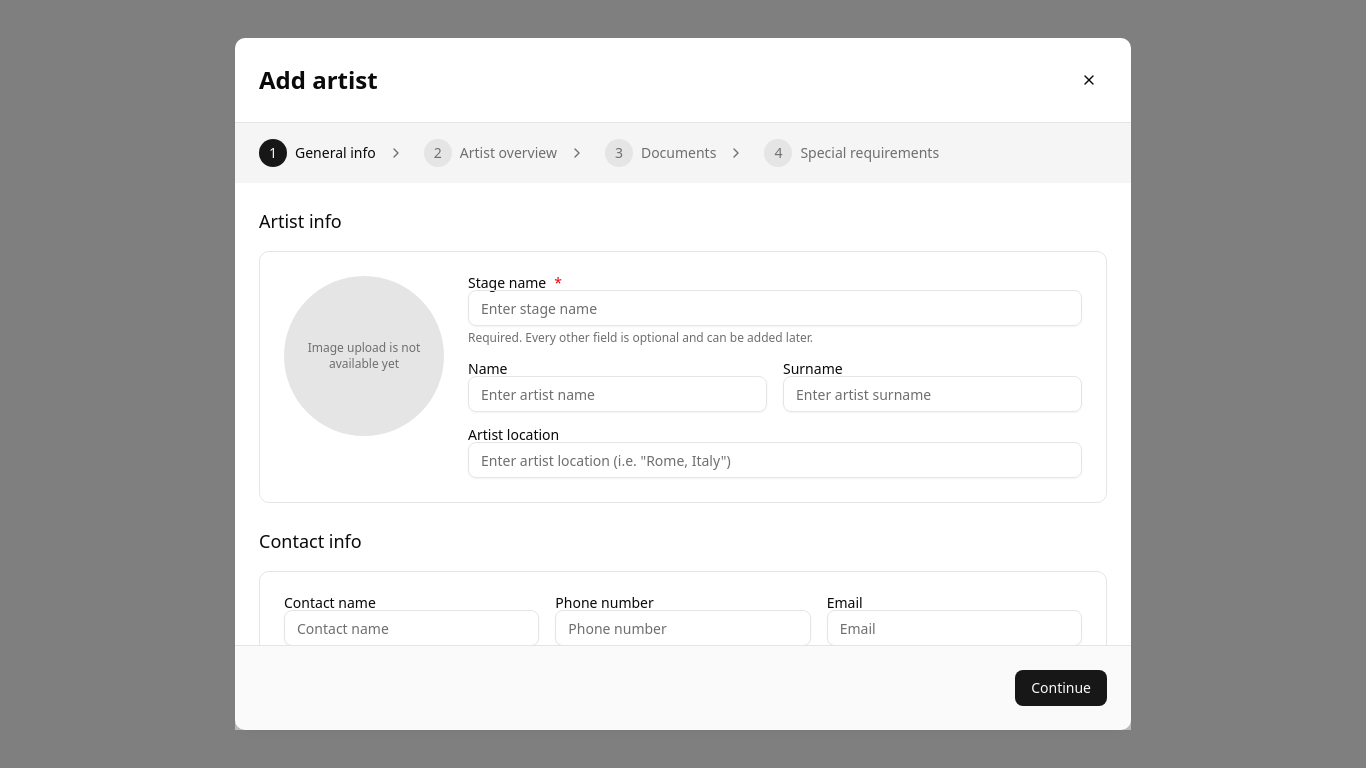
Test: BB-10: artist returned creation failure retains the wizard draft and permits retry
The image size is (1366, 768).
Later steps or results of the test are not shown.
Type "Retained Stage" into the field labelled "Stage name" at (775,308), box top-left (468, 290), bottom-right (1082, 326)
Type "Retained Name" into the field labelled "Name" at (618,394), box top-left (468, 376), bottom-right (767, 412)
Click the button "Continue" at (1061,688), box top-left (1015, 670), bottom-right (1107, 706)
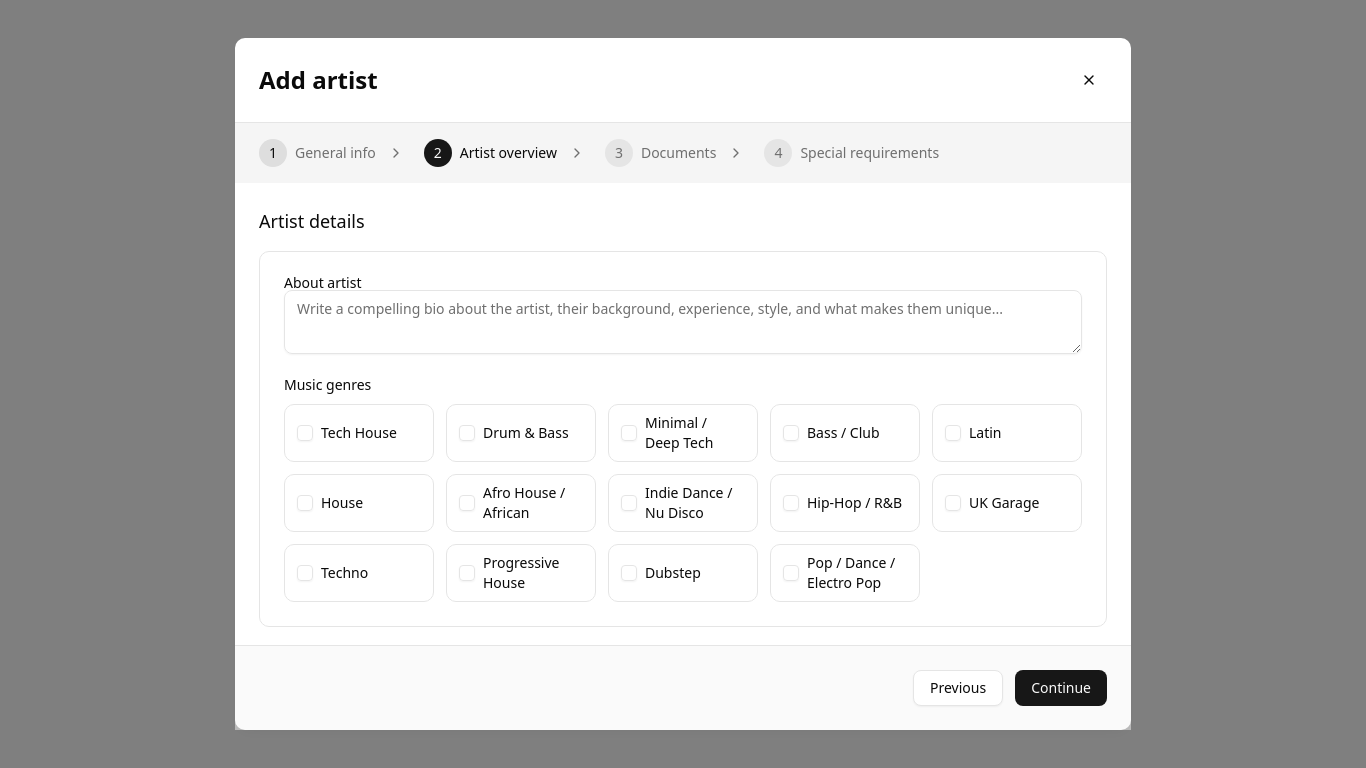
Click the button "Continue" at (1061,688), box top-left (1015, 670), bottom-right (1107, 706)
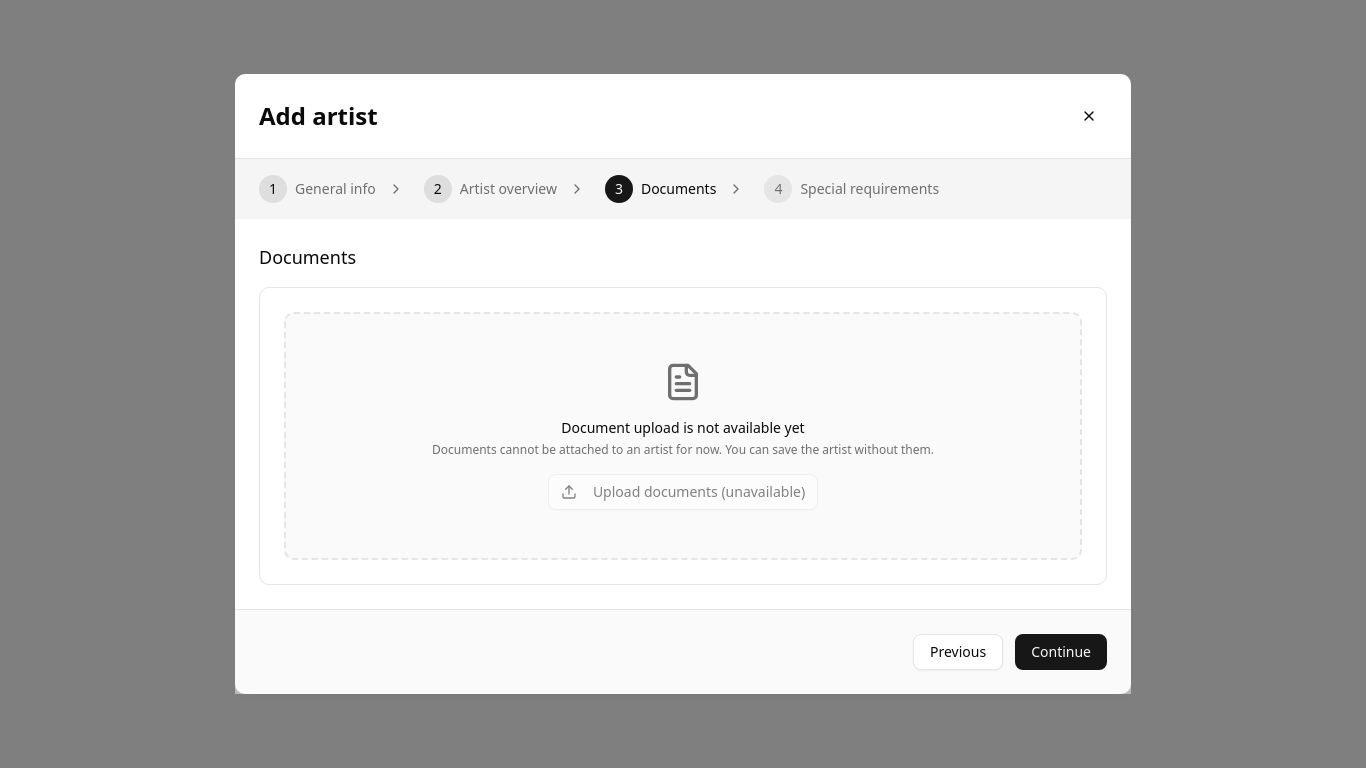
Click the button "Continue" at (1061,652), box top-left (1015, 634), bottom-right (1107, 670)
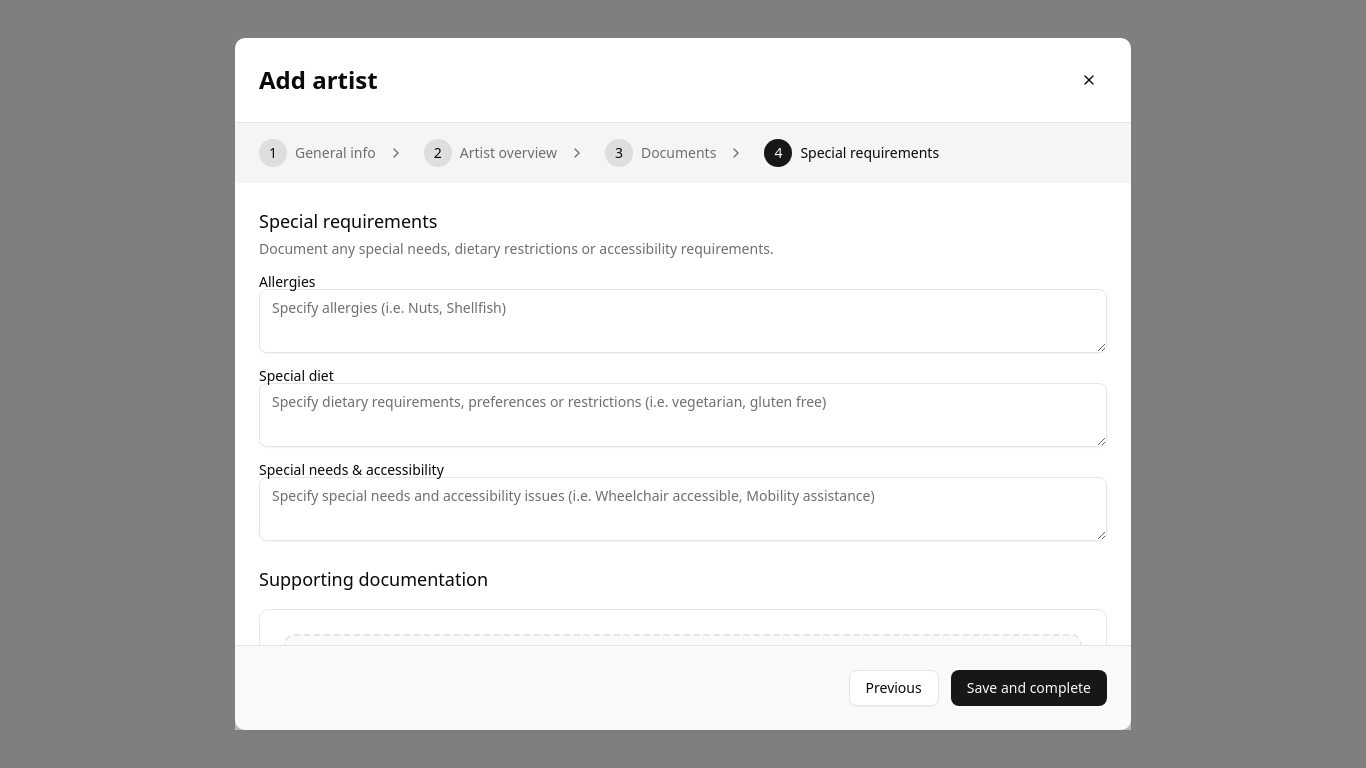
Replace the text in the text box labelled "Special needs & accessibility" with "Retained requirements" at (683,509), box top-left (259, 477), bottom-right (1107, 541)
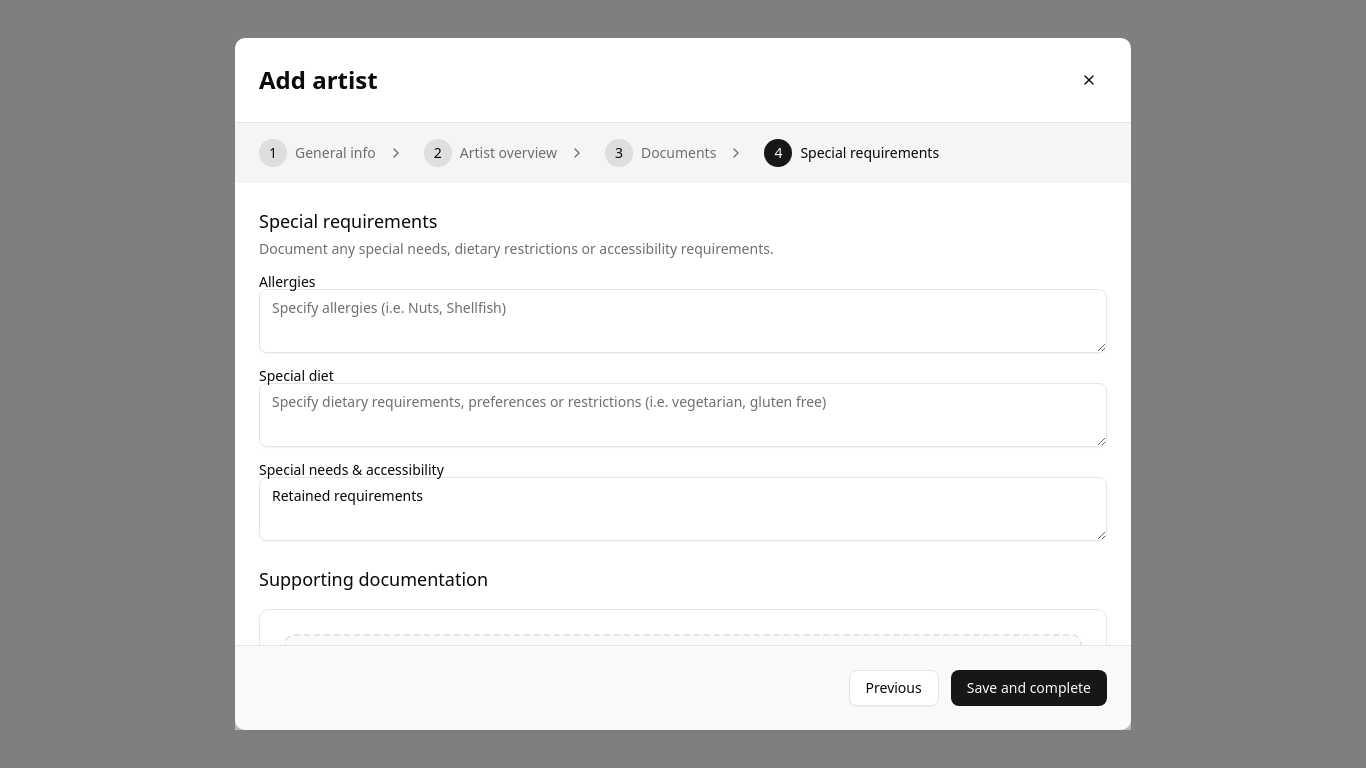
Click the button "Save and complete" at (1029,688), box top-left (951, 670), bottom-right (1107, 706)
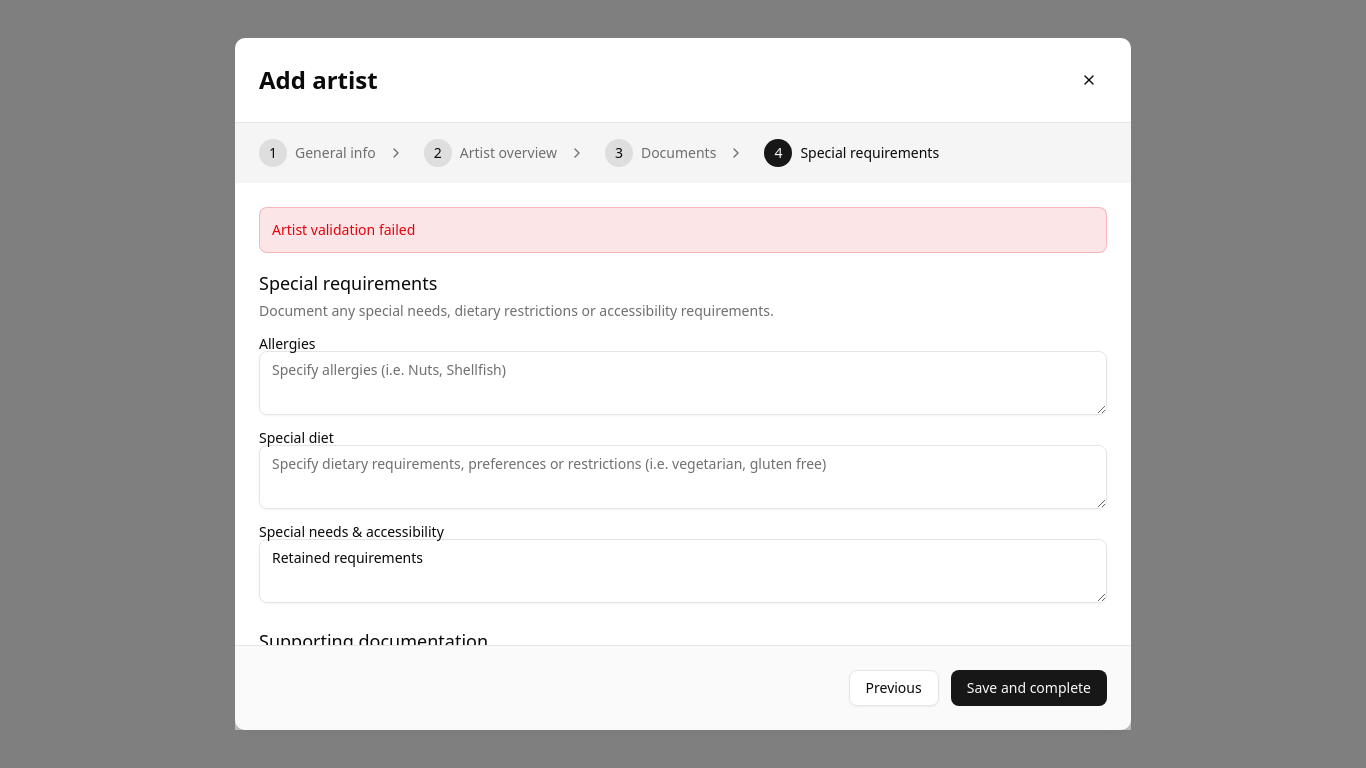
Expected: the text "Artist successfully added." is not shown
Expected: the message reads "Artist validation failed", top-left (272, 220), bottom-right (415, 239)
Click the button "Save and complete" at (1029,688), box top-left (951, 670), bottom-right (1107, 706)
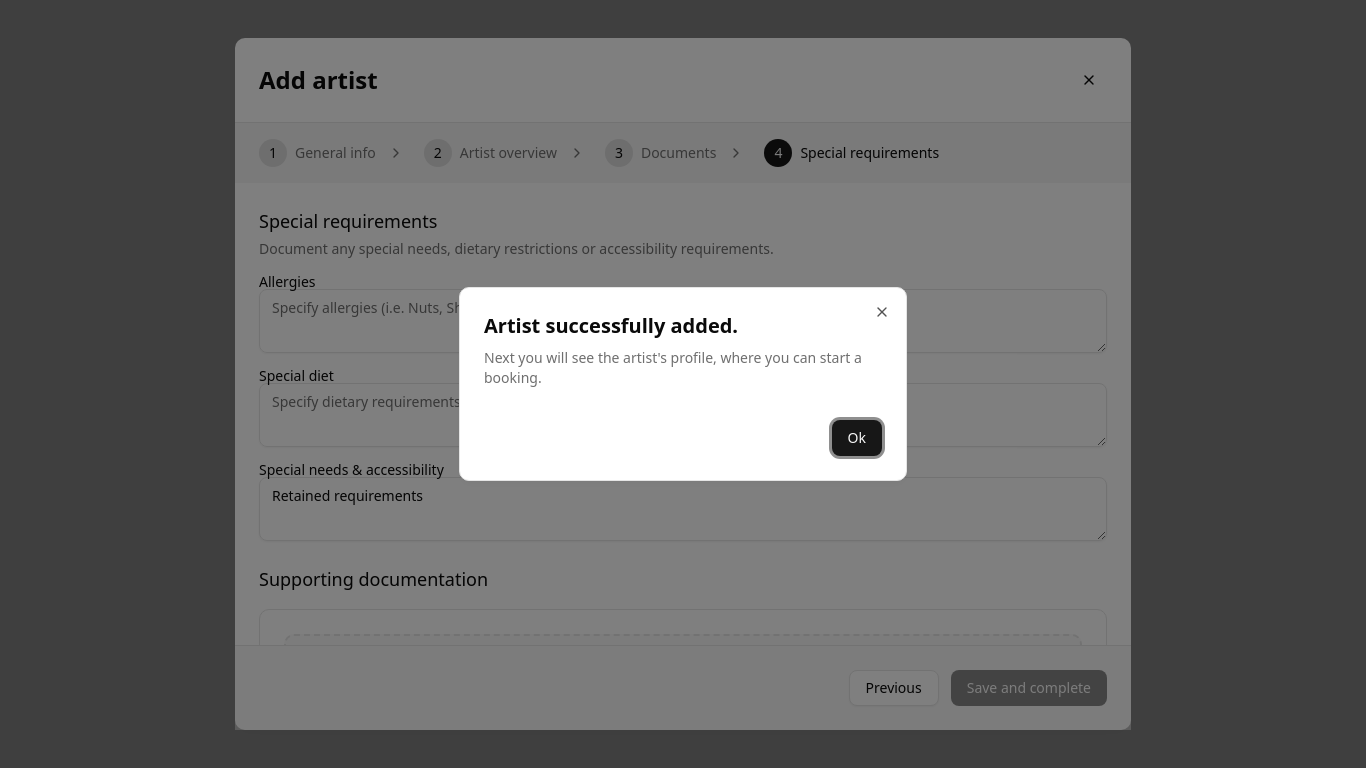
Expected: the heading "Artist successfully added." is shown, top-left (484, 312), bottom-right (738, 339)
Expected: the message "Artist validation failed" is gone
